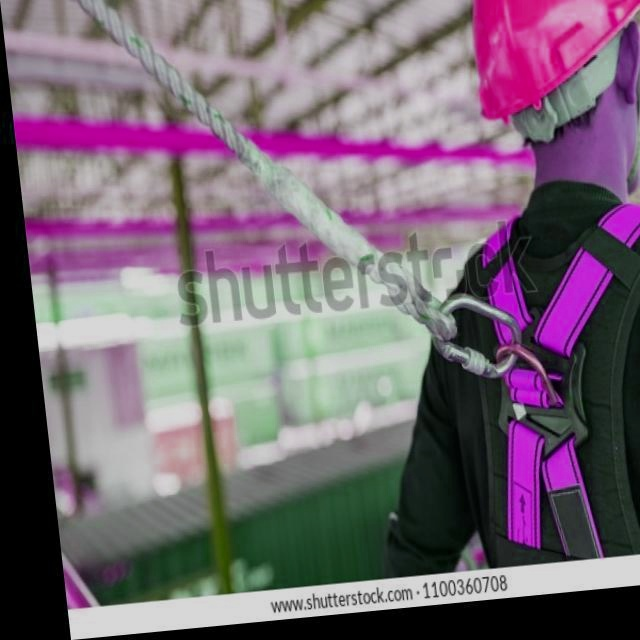safety belt: (436, 223, 616, 569)
